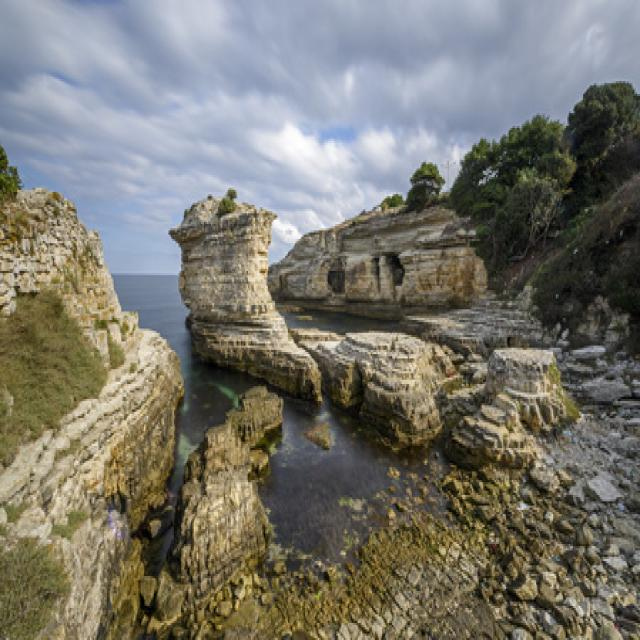reef: (161, 226, 528, 532)
